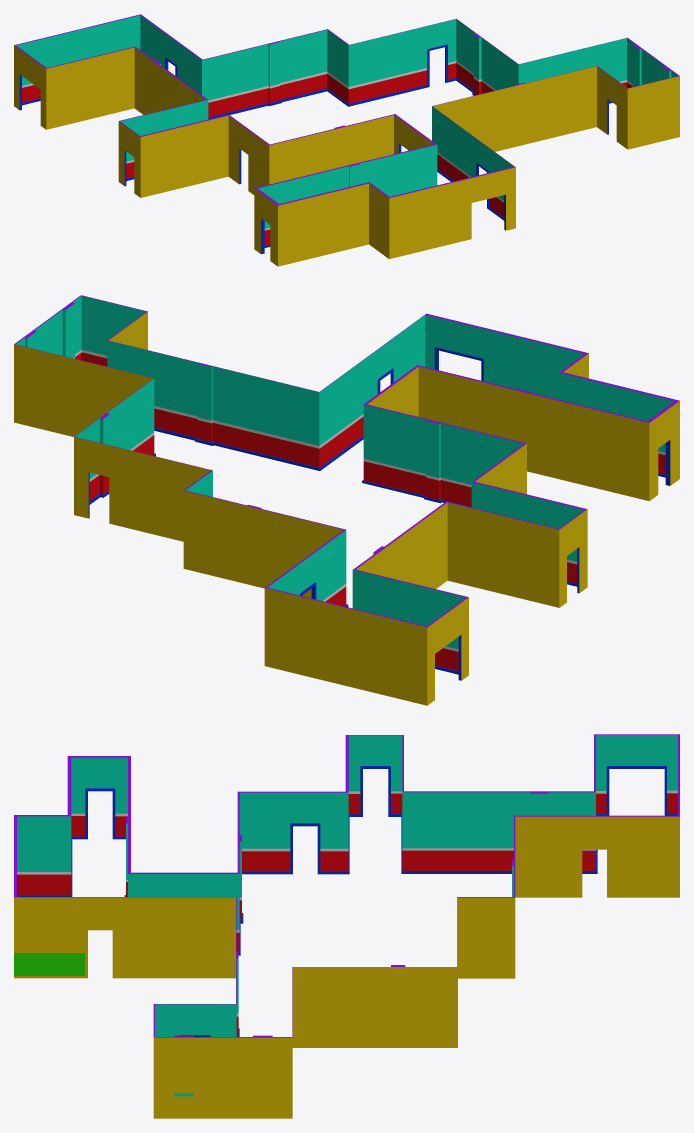
Rendered from hallwayyy_WALL.fbx.
The picture shows the model from 3 angles, top to bottom: view 1: azimuth 30°, elevation 25°; view 2: azimuth 150°, elevation 25°; view 3: azimuth 270°, elevation 25°; orthographic projection. The views are drawn at different scales.
Parts seen in each view (by area): view 1: Cube, Cube.009, Cube.002, Cube.006, Cube.018, Cube.005; view 2: Cube, Cube.009, Cube.002, Cube.006, Cube.018, Cube.005; view 3: Cube, Cube.009, Cube.002, Cube.006, Cube.018, Cube.005.
Boxes of the visible parts, x1,y1,x2,y2 form: Cube: [14, 45, 679, 266]; Cube.009: [16, 15, 678, 228]; Cube.002: [22, 63, 632, 245]; Cube.006: [14, 14, 679, 205]; Cube.018: [19, 44, 612, 254]; Cube.005: [22, 61, 633, 230]; Cube: [14, 312, 679, 705]; Cube.009: [16, 296, 674, 649]; Cube.002: [75, 352, 665, 671]; Cube.006: [14, 295, 679, 627]; Cube.018: [88, 347, 670, 680]; Cube.005: [73, 349, 665, 651]; Cube: [14, 816, 679, 1118]; Cube.009: [17, 735, 677, 1096]; Cube.002: [17, 793, 677, 1036]; Cube.006: [14, 734, 679, 1037]; Cube.018: [17, 766, 677, 1036]; Cube.005: [17, 790, 677, 1016].
Bounding box in the file's own units: 2712 × 338 × 2516.
